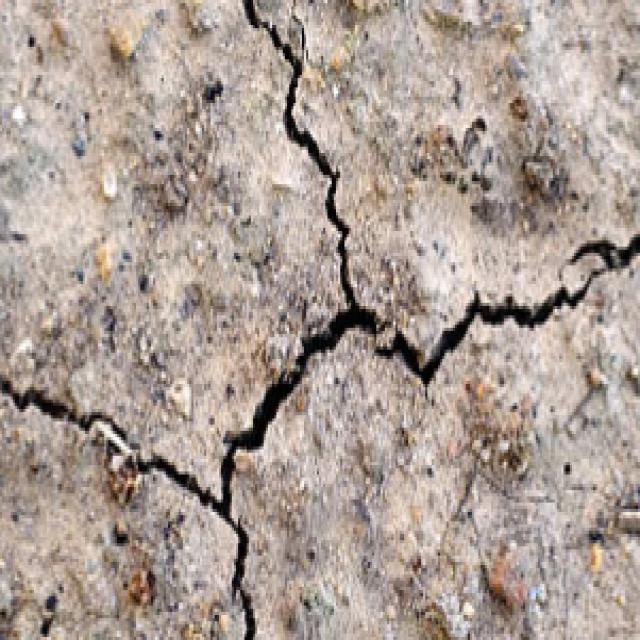branched cracks: (138, 0, 378, 639), (375, 271, 602, 383), (568, 235, 639, 268)
